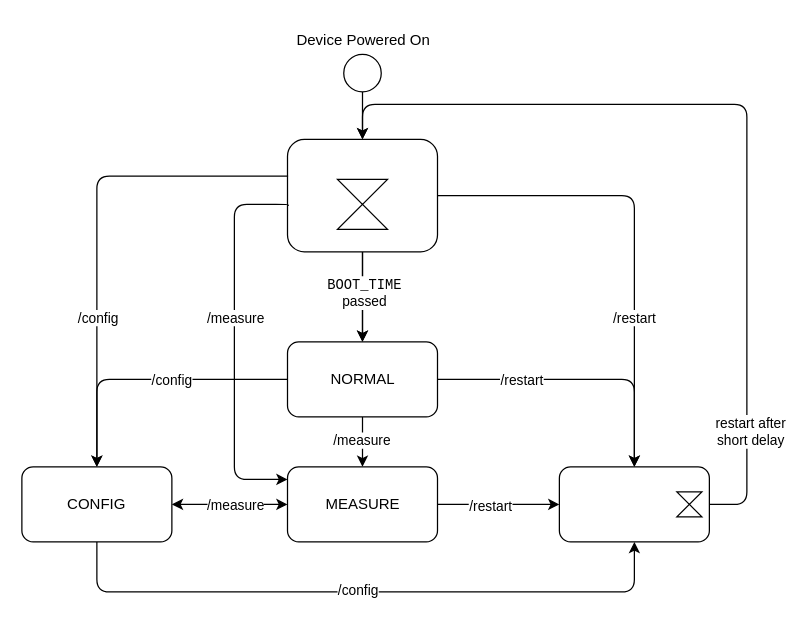
The diagram is 806 pixels wide and 624 high, and some of its shapes have lost their labels. The box of each missing label's shape, as (x1, y1, x2, y2) in pixels:
BOOT: (286, 138, 438, 252)
RESTART: (558, 466, 709, 542)
